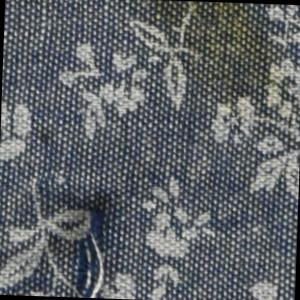Damage: (67, 191, 120, 300)
Oil Stain: (145, 1, 300, 121)
